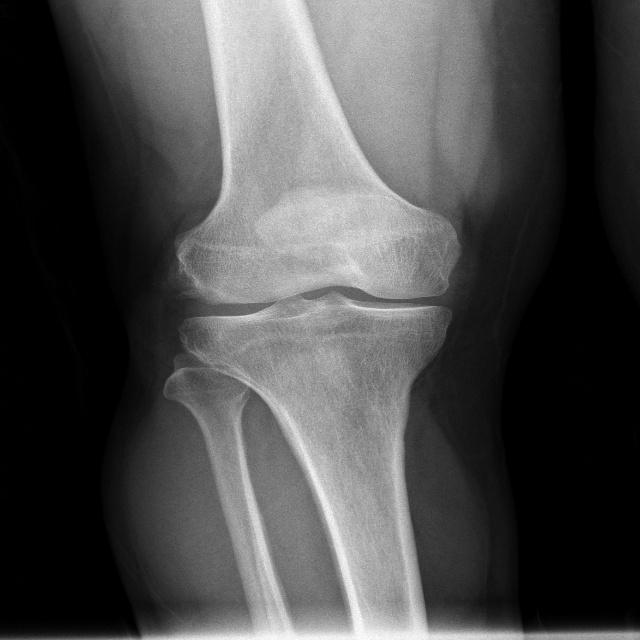Knee: (171, 207, 461, 401)
